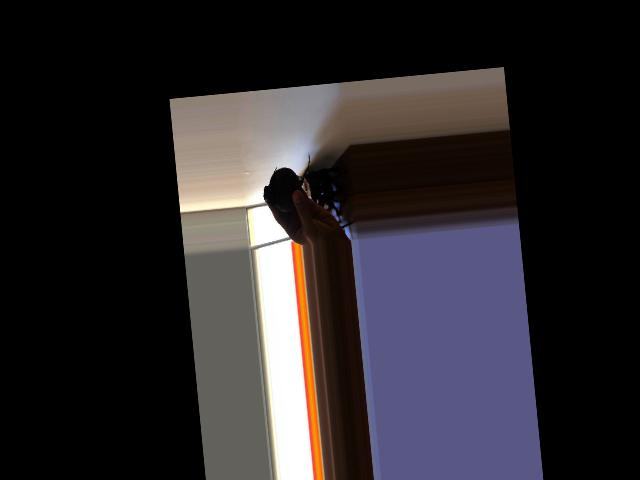beet: (260, 153, 315, 213)
